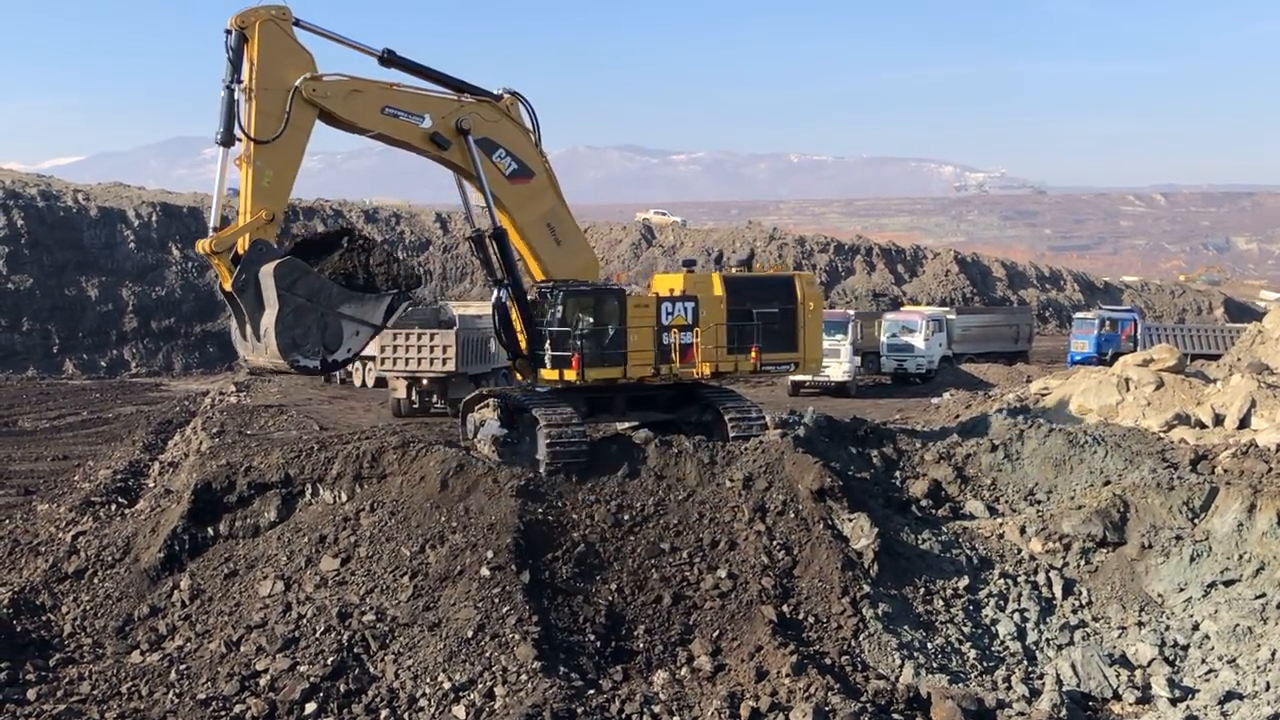full: (217, 220, 431, 376)
